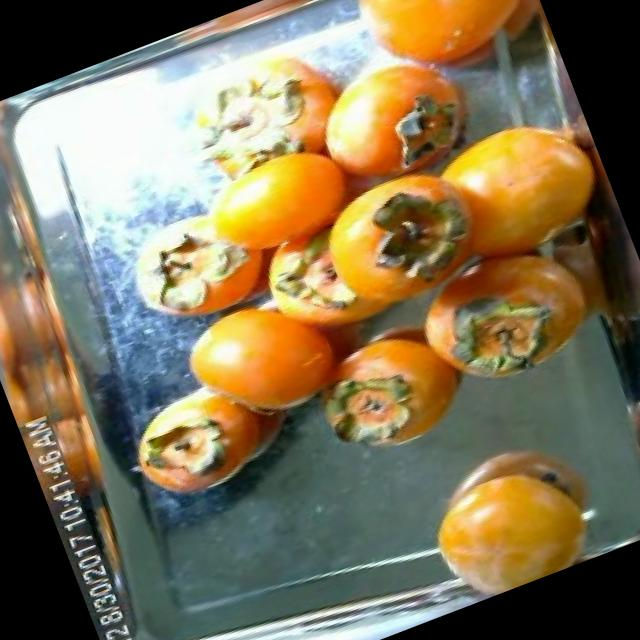Fruit: (395, 406, 624, 613), (157, 270, 366, 460), (115, 373, 262, 522)
